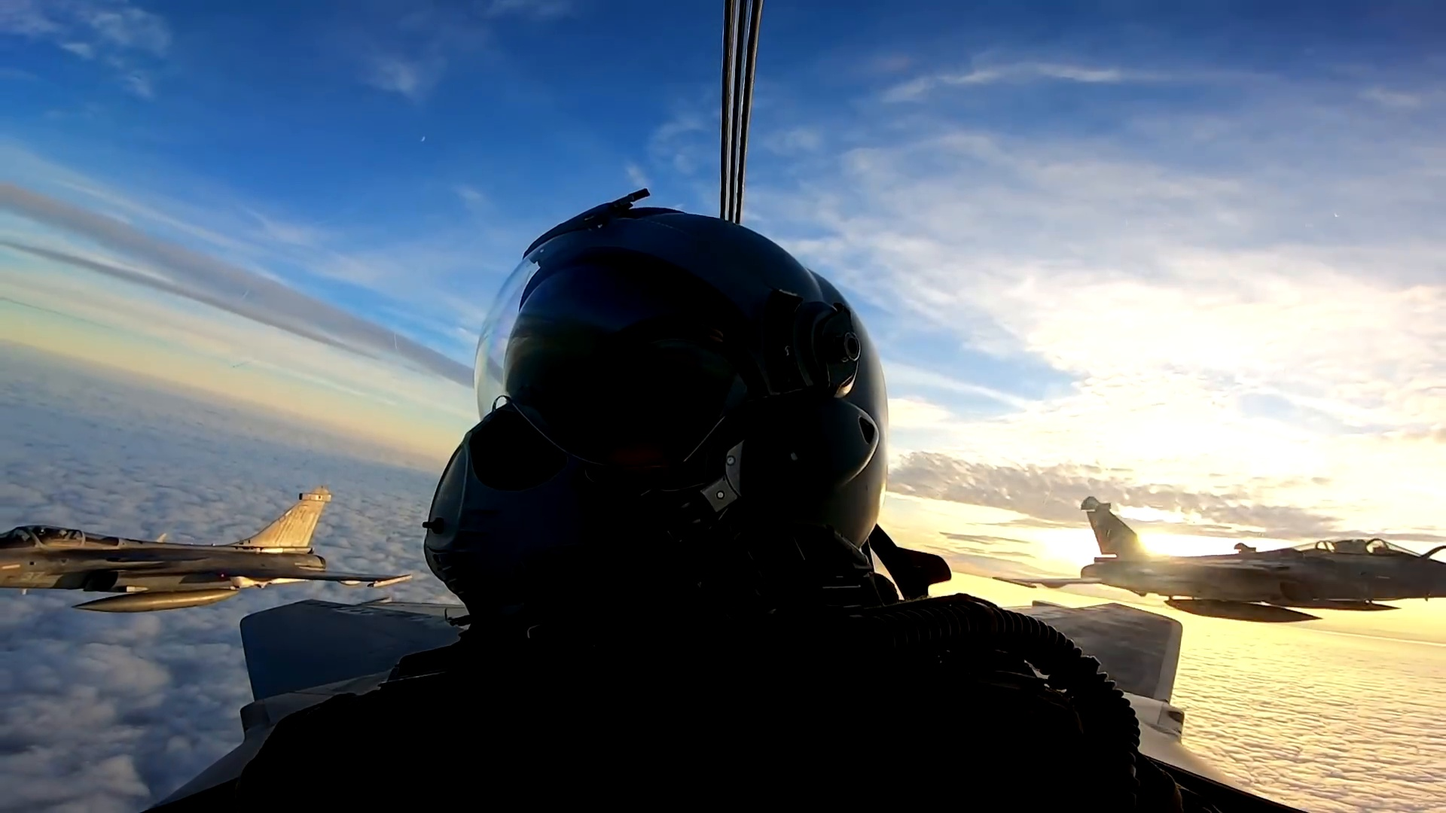Rafale: (986, 498, 1446, 621), (1, 485, 417, 610)
